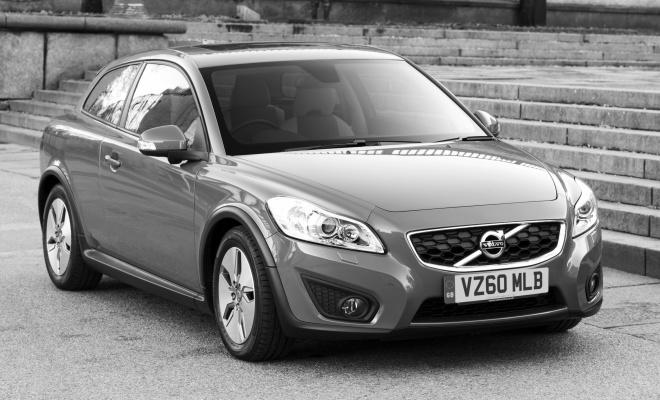car: (34, 39, 611, 370)
